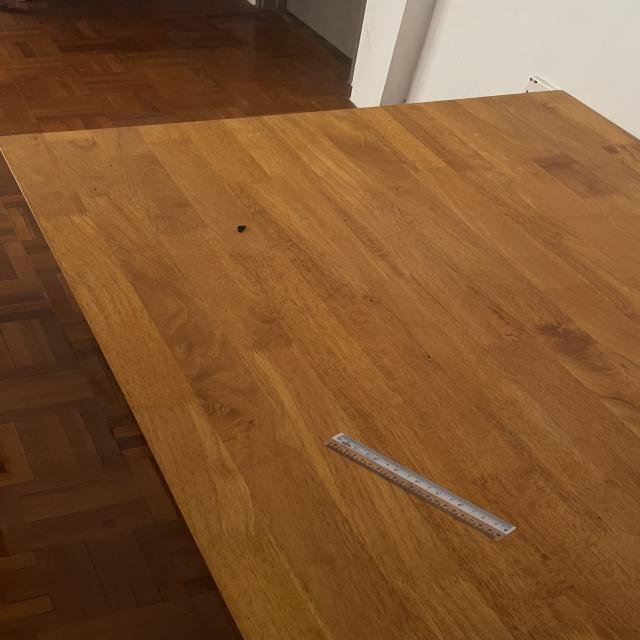ruler: (324, 433, 516, 540)
